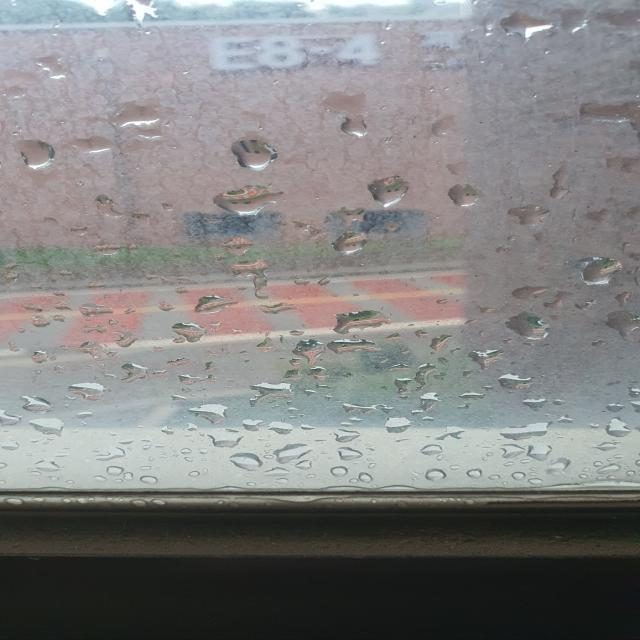raindrop: (482, 302, 574, 352), (314, 88, 388, 150), (197, 178, 292, 223), (352, 168, 423, 216), (5, 131, 74, 179), (562, 250, 634, 294), (492, 6, 565, 47), (482, 197, 576, 228), (311, 222, 390, 256), (96, 94, 168, 130), (54, 132, 135, 164), (222, 134, 280, 178), (427, 178, 492, 213), (240, 375, 310, 406), (323, 310, 393, 338), (157, 319, 214, 352), (322, 335, 387, 362), (265, 438, 322, 468), (62, 379, 120, 407), (490, 419, 560, 442), (185, 296, 245, 322), (12, 392, 68, 419), (172, 400, 236, 423), (218, 449, 273, 474), (202, 426, 258, 450), (599, 308, 640, 340), (26, 413, 76, 438), (314, 460, 363, 482), (90, 442, 132, 467), (402, 464, 460, 482), (598, 416, 640, 440), (374, 413, 421, 434), (21, 456, 66, 477), (520, 440, 560, 463), (326, 445, 372, 464), (532, 457, 572, 478), (320, 425, 364, 444), (588, 460, 626, 481), (413, 444, 455, 462), (488, 446, 524, 460)
